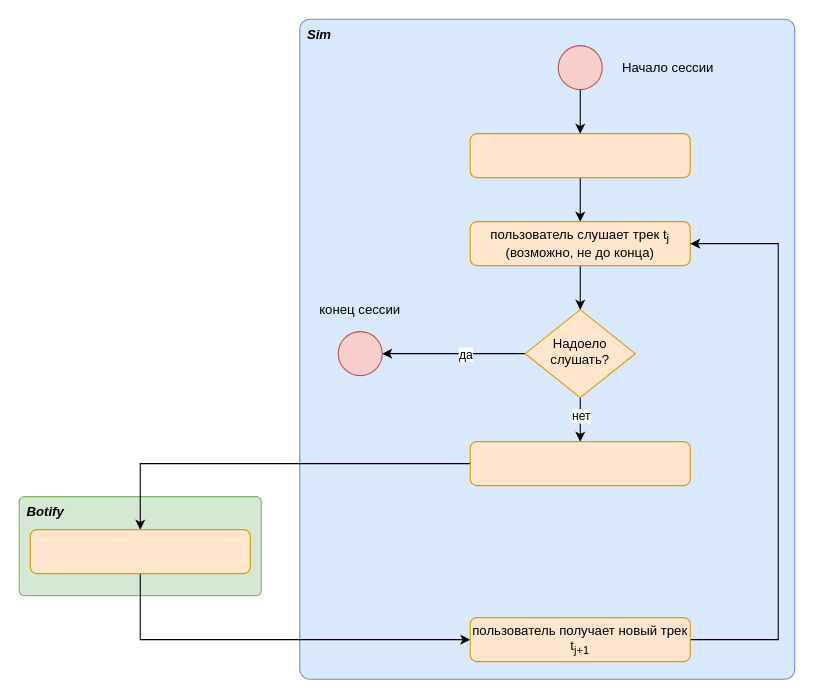
This 814x699 diagram has some shape labels left out. The shapes that lost their labels are listed below. From the top down, each one's centre as x and y in pixels, then its label:
the point at 579,155: пользователь выбирает первый трек t 0
the point at 579,463: пользователь запрашивает следующий трек у botify
the point at 139,551: botify рекомендует следующий трек
